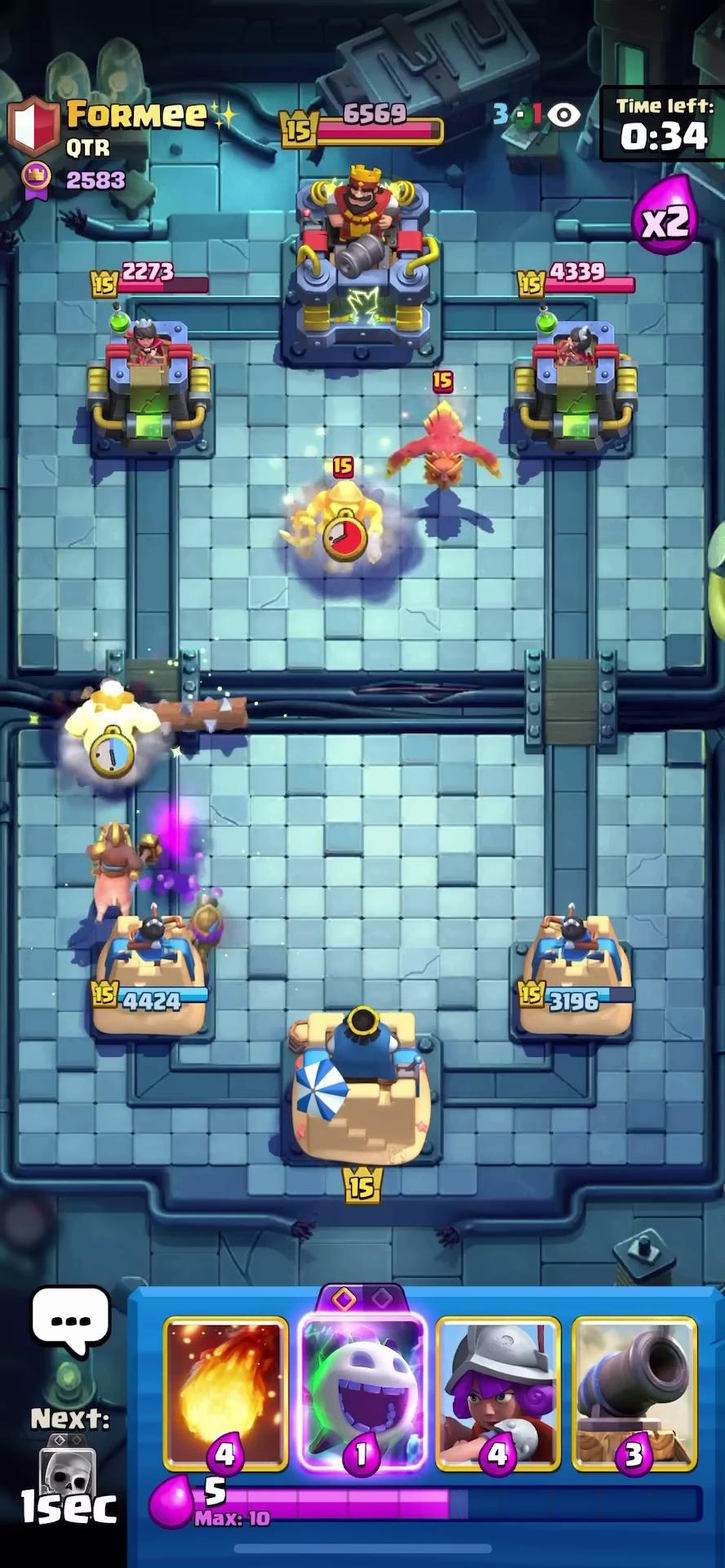hog_rider: (71, 804, 167, 919)
ice_golem: (76, 668, 147, 770)
log: (141, 690, 261, 747)
musketeer: (169, 876, 243, 974)
